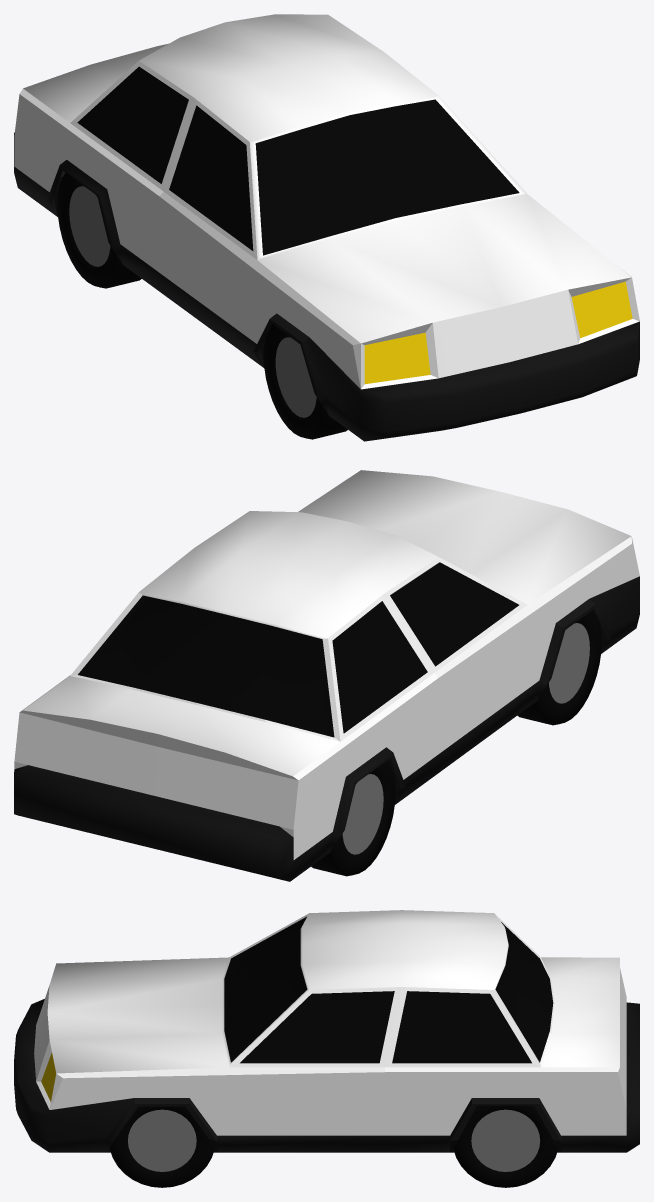
Rendered from CarBlanco.obj.
The picture shows the model from 3 angles, top to bottom: view 1: azimuth 30°, elevation 25°; view 2: azimuth 150°, elevation 25°; view 3: azimuth 270°, elevation 25°; orthographic projection. The views are drawn at different scales.
Visible parts, largest first — view 1: Car_Cube; view 2: Car_Cube; view 3: Car_Cube.
Boxes of the visible parts, x1=… form: Car_Cube: x1=14, y1=14, x2=639, y2=441; Car_Cube: x1=14, y1=470, x2=639, y2=881; Car_Cube: x1=14, y1=910, x2=639, y2=1187.
Bounding box in the file's own units: 2.1 × 1.59 × 4.66.
